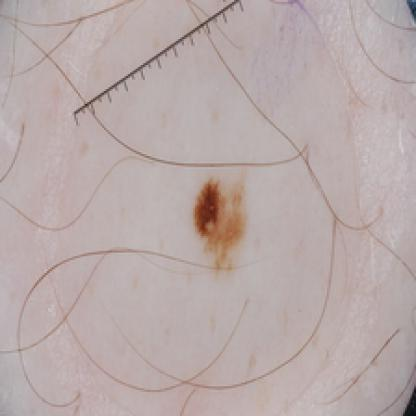malignant: (182, 180, 253, 262)
